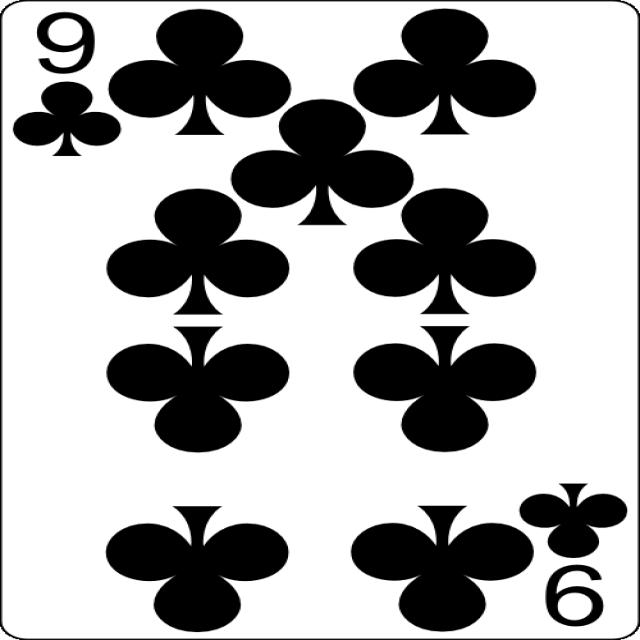Club: (105, 504, 292, 633), (352, 326, 539, 452), (231, 98, 414, 226), (108, 8, 292, 135), (350, 505, 534, 632), (352, 188, 537, 314), (353, 9, 537, 135), (106, 327, 290, 453), (107, 188, 290, 314), (521, 482, 629, 558), (13, 82, 121, 156)
